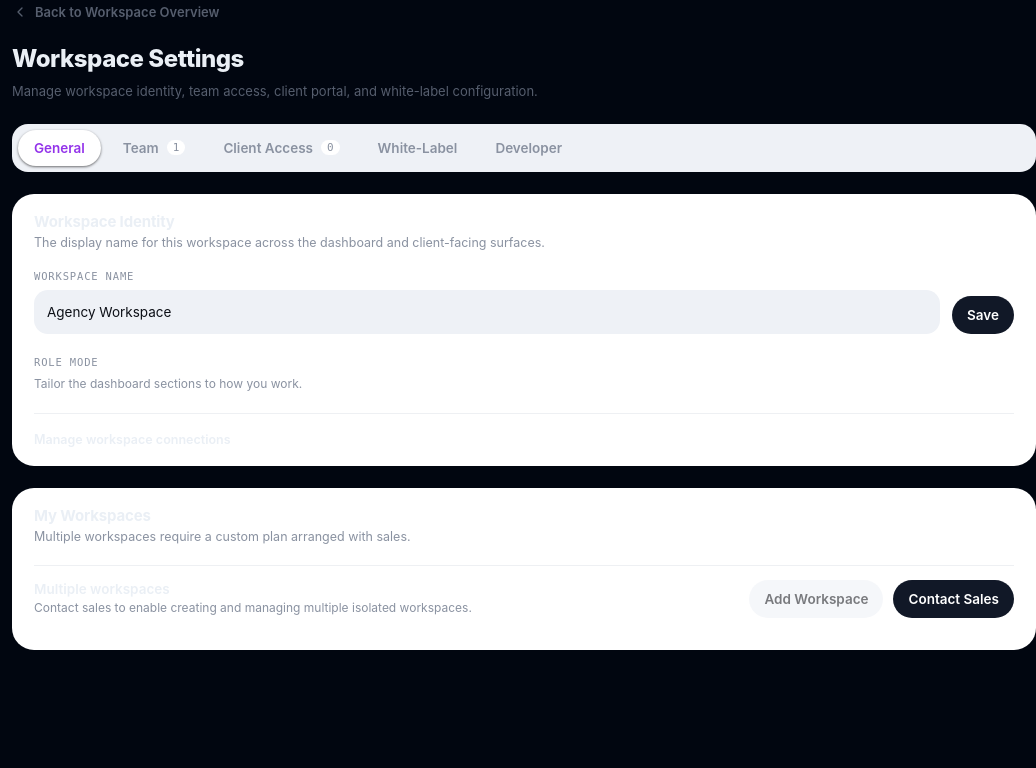
Test: WorkspaceSettingsPage › states the plan position instead of rendering dead white-label controls
Click the tab "White-Label". click: (418, 148)
box: [362,130,473,166]
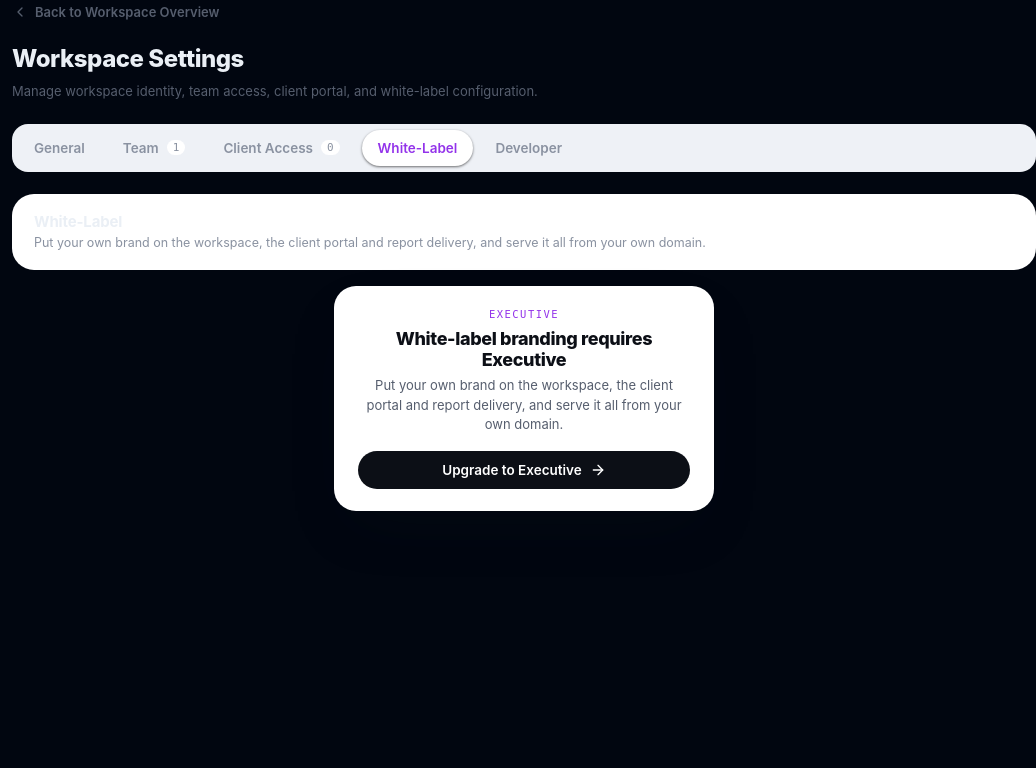
expect the heading "White-label branding requires Executive" is shown: met, box [396,328,652,370]
